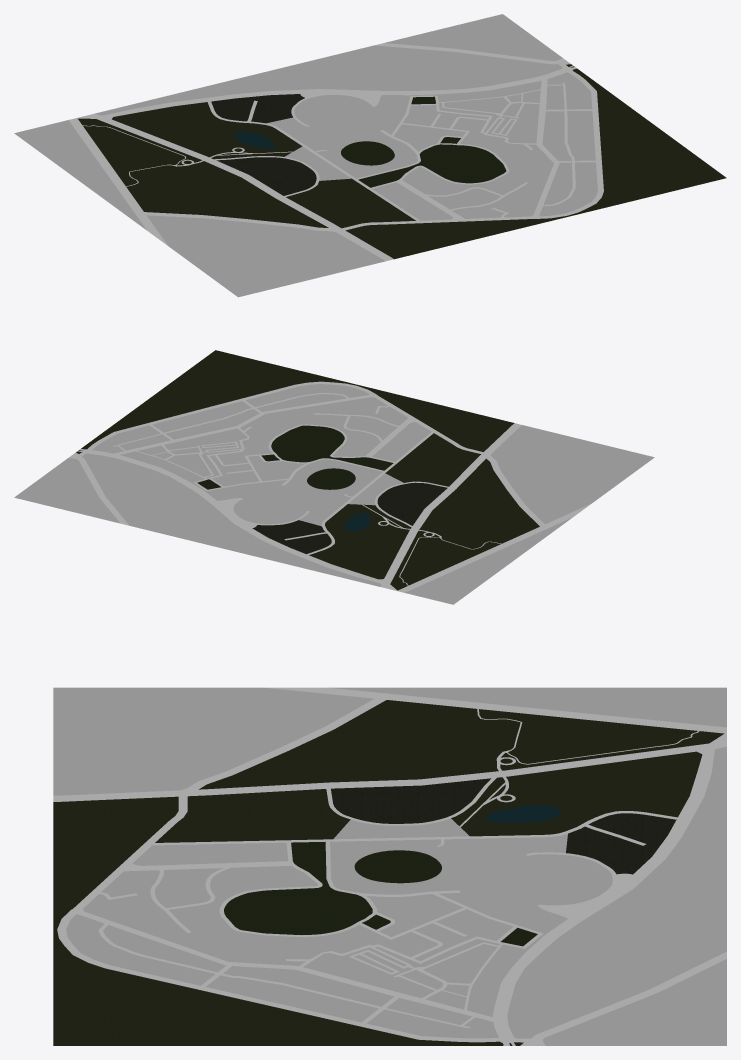
File: onlyGround.glb
3 views of the same model, one above another, from view 1: azimuth 30°, elevation 25°; view 2: azimuth 150°, elevation 25°; view 3: azimuth 270°, elevation 25° (orthographic). The views are drawn at different scales.
Parts seen in each view (by area): view 1: Group_003; view 2: Group_003; view 3: Group_003.
Boxes of the visible parts, left/top/right/bottom form: Group_003: left=14, top=14, right=726, bottom=297; Group_003: left=14, top=350, right=654, bottom=604; Group_003: left=53, top=687, right=726, bottom=1045.
Bounding box in the file's own units: 1744 × 9.93e-13 × 1272.
Materials: 6 (4 with a texture image).
